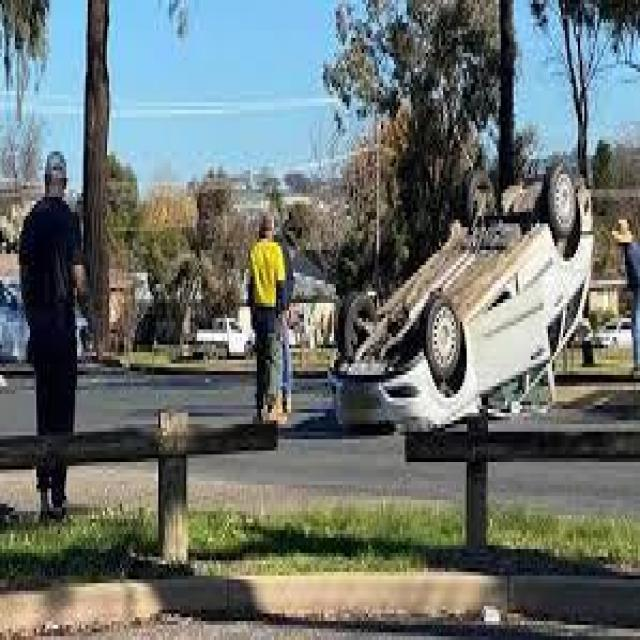accident: (327, 150, 600, 414)
